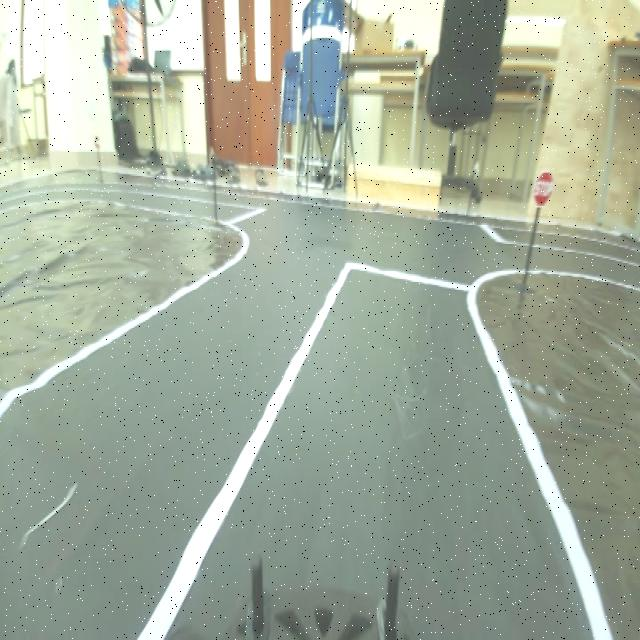stop: (531, 166, 557, 214)
